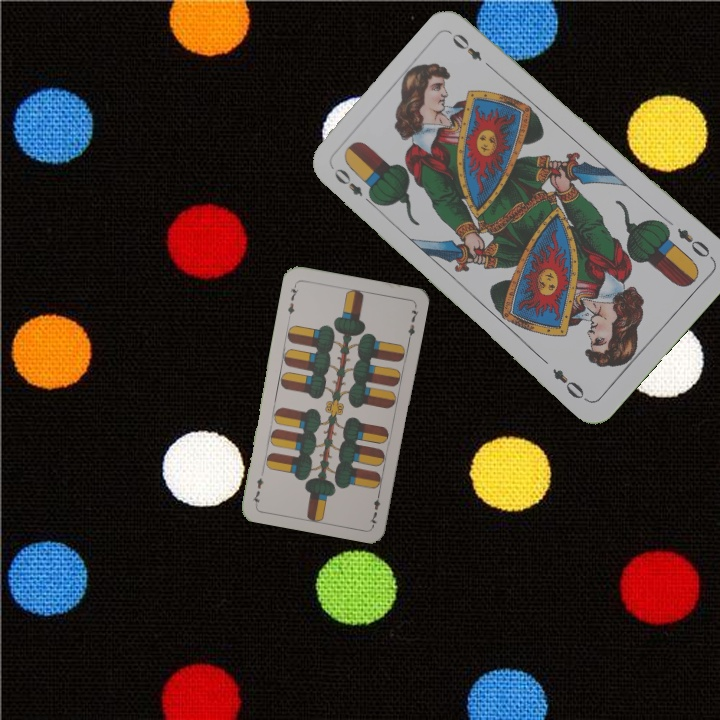E7: (365, 487, 383, 528), (283, 280, 301, 320)
EO: (330, 164, 378, 209), (673, 224, 716, 262)
